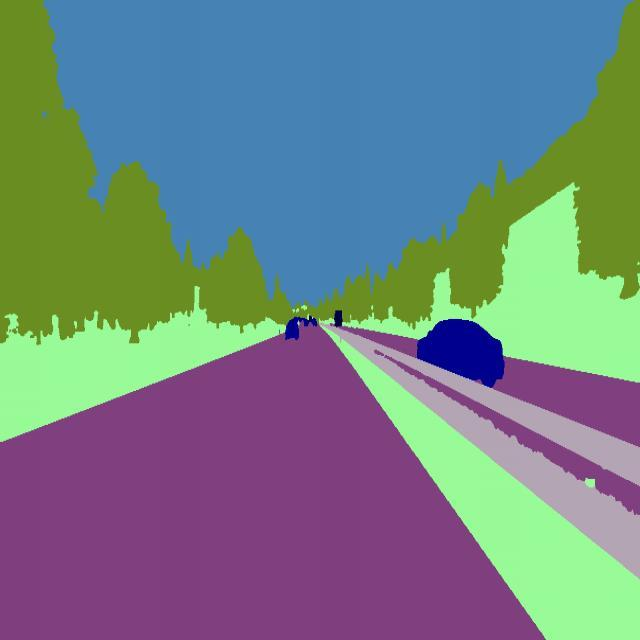safe: (416, 314, 506, 393), (283, 316, 301, 344)
